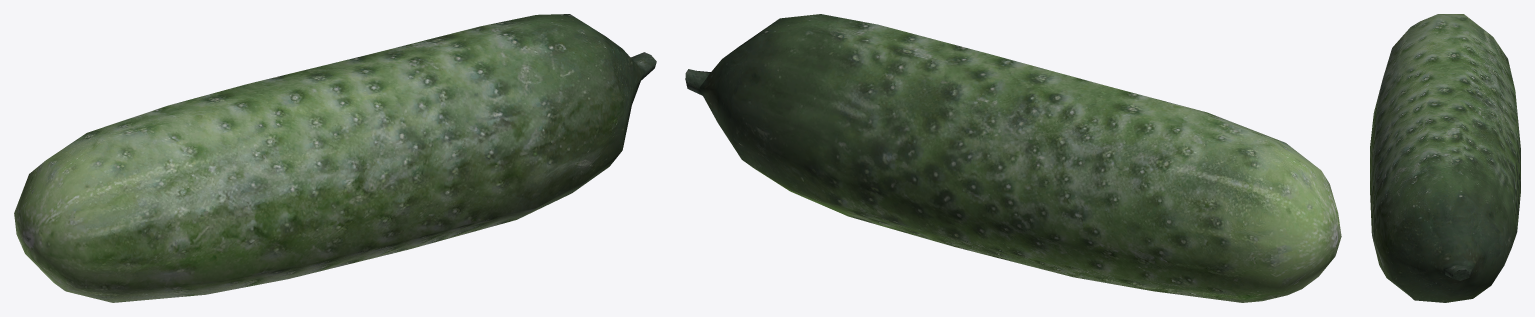
File: Огурец 2 Вариант.dae
The picture shows the model from 3 angles, left to right: view 1: azimuth 30°, elevation 25°; view 2: azimuth 150°, elevation 25°; view 3: azimuth 270°, elevation 25°; orthographic projection. The views are drawn at different scales.
Visible parts, largest first — view 1: SM_foo_cucumber_01_b.001; view 2: SM_foo_cucumber_01_b.001; view 3: SM_foo_cucumber_01_b.001.
Part boxes in pixels (<box>): SM_foo_cucumber_01_b.001: <box>14,14,656,302</box>; SM_foo_cucumber_01_b.001: <box>685,14,1341,302</box>; SM_foo_cucumber_01_b.001: <box>1370,14,1520,302</box>.
Size of the model in its own units: 19.25 by 5.12 by 5.19.
